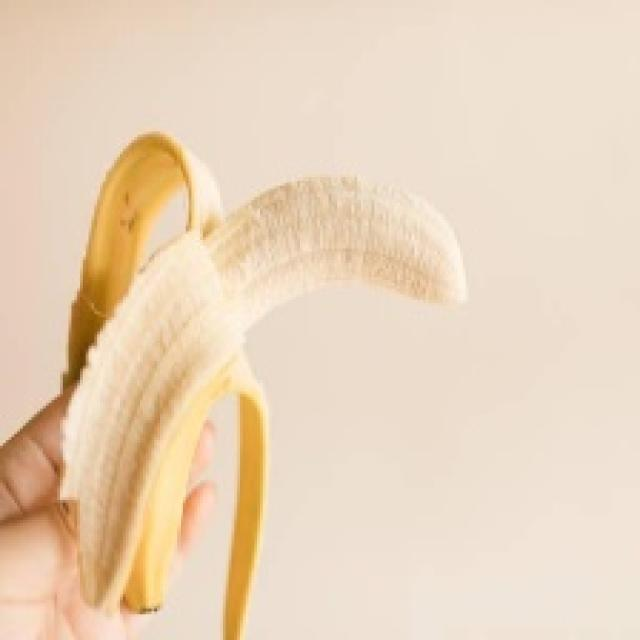Banana: (57, 129, 466, 637)
